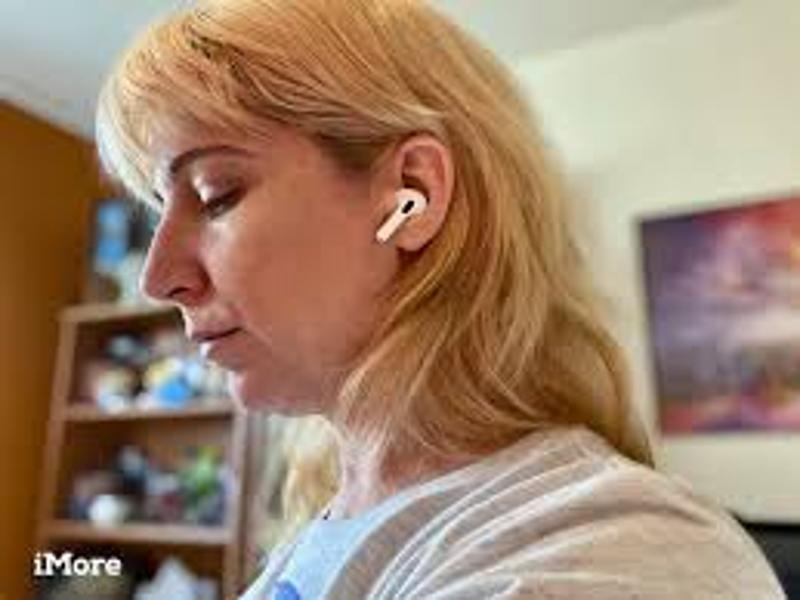headphone: (373, 184, 430, 246)
